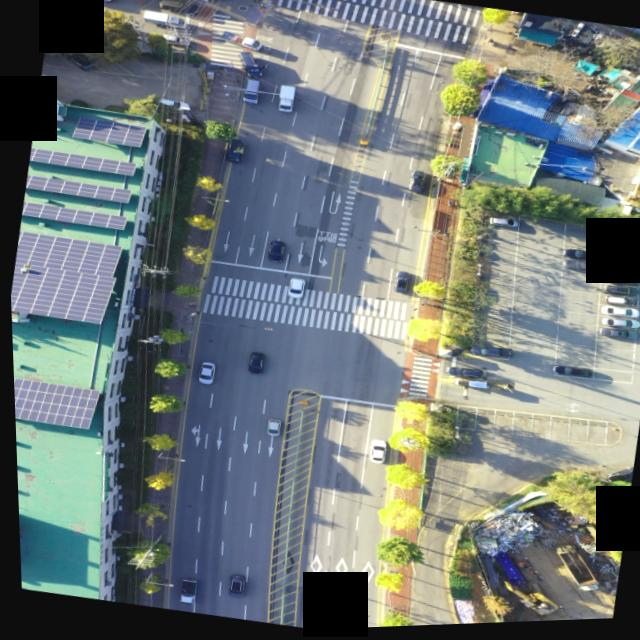car: (235, 49, 267, 79), (440, 364, 483, 384), (467, 346, 509, 364), (64, 50, 97, 72), (603, 264, 640, 282), (241, 78, 263, 108), (560, 249, 600, 265), (596, 329, 635, 345), (159, 0, 198, 16), (155, 96, 191, 113), (562, 261, 600, 277), (551, 367, 591, 382), (403, 170, 427, 195), (607, 253, 640, 271), (602, 276, 637, 292), (601, 285, 636, 301), (599, 307, 636, 322), (243, 351, 264, 376), (365, 441, 386, 466), (599, 318, 634, 333), (221, 574, 242, 598), (601, 297, 635, 311), (265, 241, 284, 265), (196, 362, 216, 384), (285, 277, 305, 299), (160, 33, 191, 47), (489, 218, 518, 231), (615, 242, 640, 257), (392, 273, 409, 295), (59, 0, 90, 12), (263, 421, 280, 437), (73, 0, 116, 4)
medium_truck: (544, 547, 604, 599)
small_truck: (141, 8, 191, 31), (218, 29, 265, 53), (273, 83, 297, 115), (225, 138, 248, 166), (173, 578, 196, 605)
